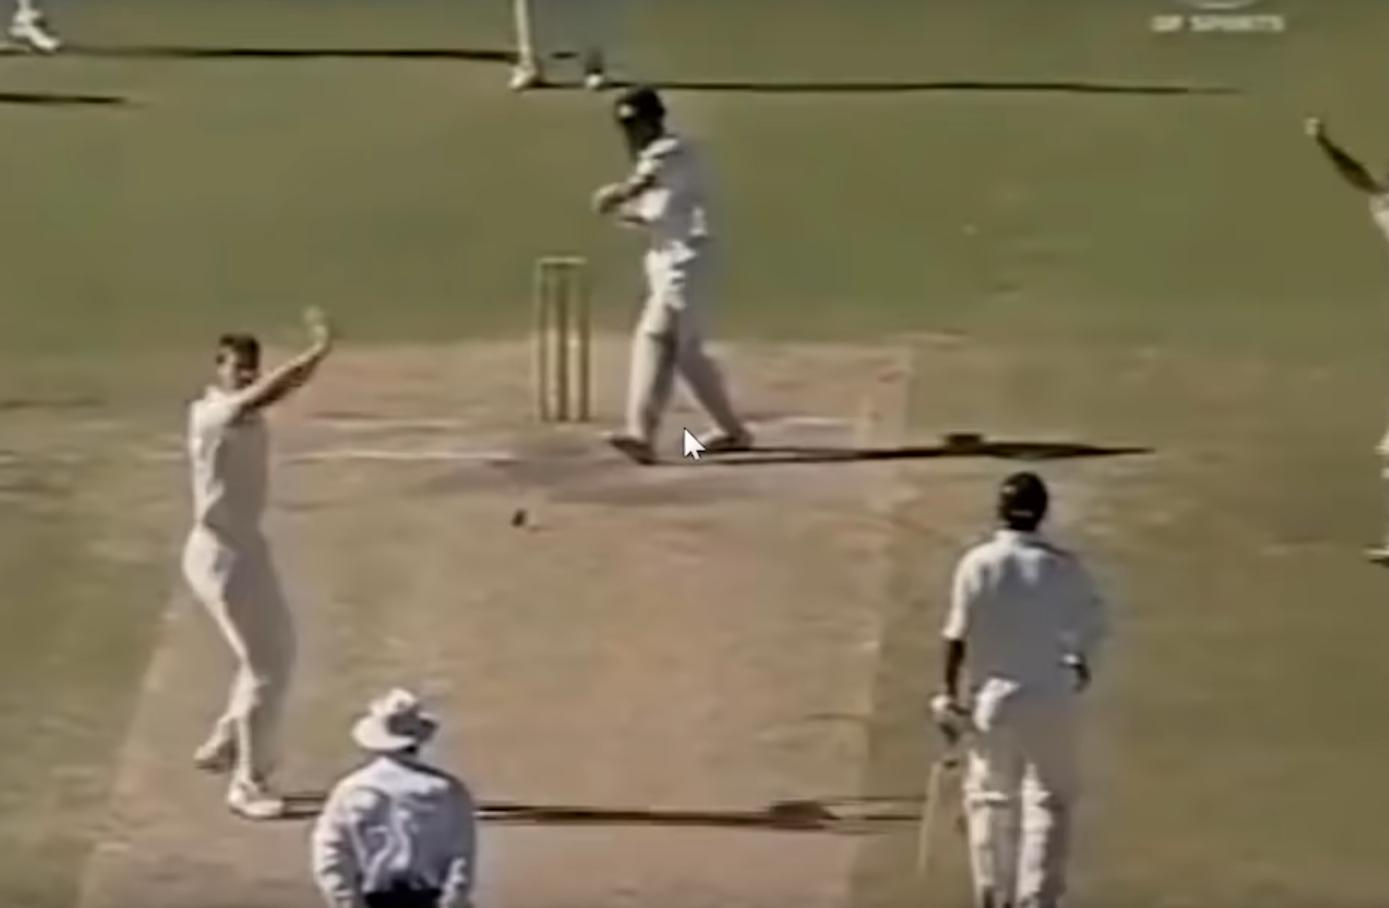Cricket-Ball: (497, 497, 545, 539)
